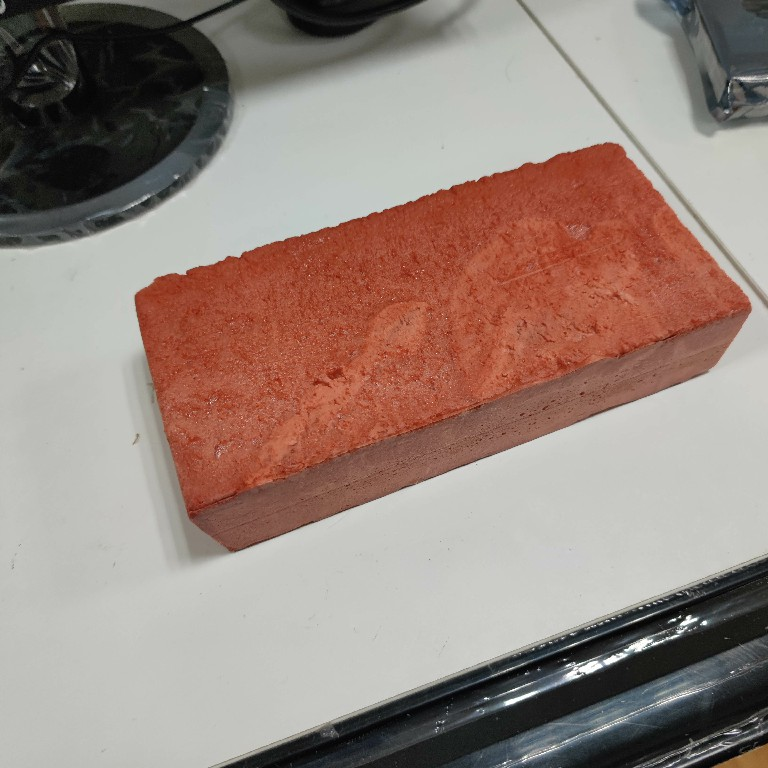brick: (129, 140, 759, 556)
